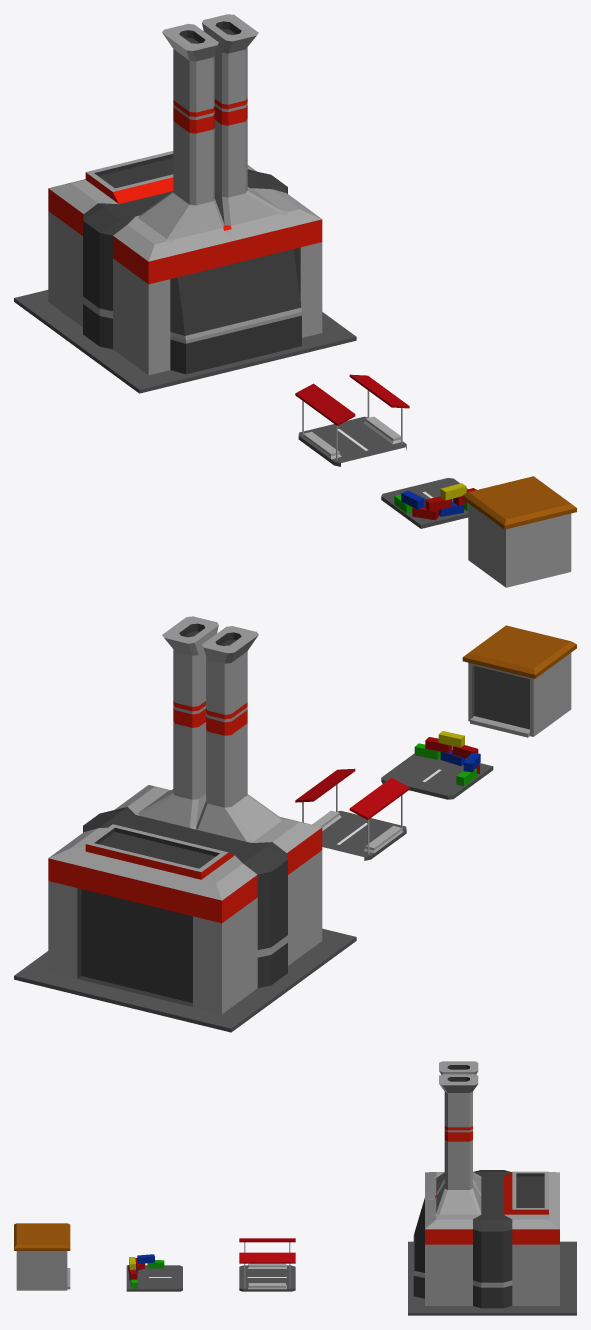
Rendered from Parcels.fbx.
3 renders of one model, top to bottom at view 1: azimuth 30°, elevation 25°; view 2: azimuth 150°, elevation 25°; view 3: azimuth 270°, elevation 25°, orthographic. The views are drawn at different scales.
Parts seen in each view (by area): view 1: Industrise, Depot, BusStop, LoadingBay; view 2: Industrise, Depot, BusStop, LoadingBay; view 3: Industrise, Depot, BusStop, LoadingBay.
Part boxes in pixels (left/top/right/bottom): Industrise: left=14, top=14, right=356, bottom=393; Depot: left=462, top=476, right=576, bottom=587; BusStop: left=295, top=374, right=409, bottom=466; LoadingBay: left=381, top=478, right=476, bottom=528; Industrise: left=14, top=616, right=356, bottom=1032; Depot: left=462, top=625, right=576, bottom=737; BusStop: left=295, top=768, right=409, bottom=860; LoadingBay: left=381, top=731, right=493, bottom=799; Industrise: left=408, top=1061, right=576, bottom=1315; Depot: left=14, top=1223, right=70, bottom=1290; BusStop: left=239, top=1238, right=295, bottom=1291; LoadingBay: left=126, top=1254, right=182, bottom=1291.
Bounding box in the file's own units: 300 × 405 × 1000.
